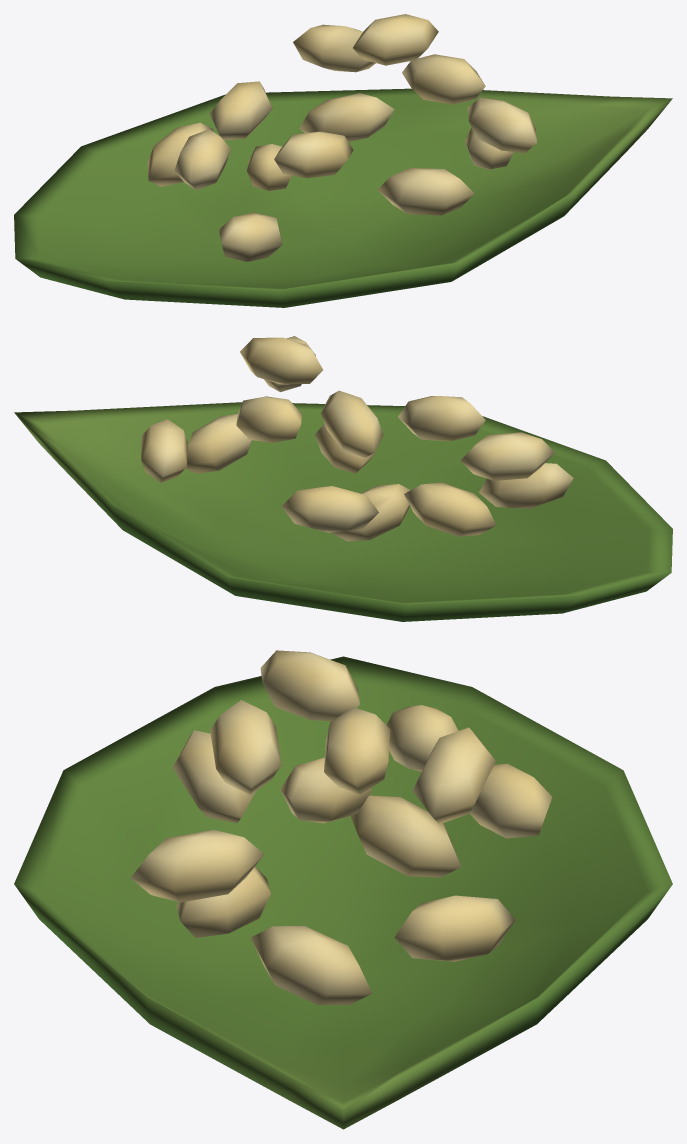
Rendered from seeds_grain.glb.
3 views of the same model, one above another, from view 1: azimuth 30°, elevation 25°; view 2: azimuth 150°, elevation 25°; view 3: azimuth 270°, elevation 25° (orthographic). The views are drawn at different scales.
Visible parts, largest first — view 1: seeds_grain; view 2: seeds_grain; view 3: seeds_grain.
Boxes of the visible parts, x1,y1,x2,y2 form: seeds_grain: [14, 14, 672, 307]; seeds_grain: [14, 336, 672, 621]; seeds_grain: [14, 650, 672, 1129].
Bounding box in the file's own units: 0.085 × 0.0256 × 0.052.
